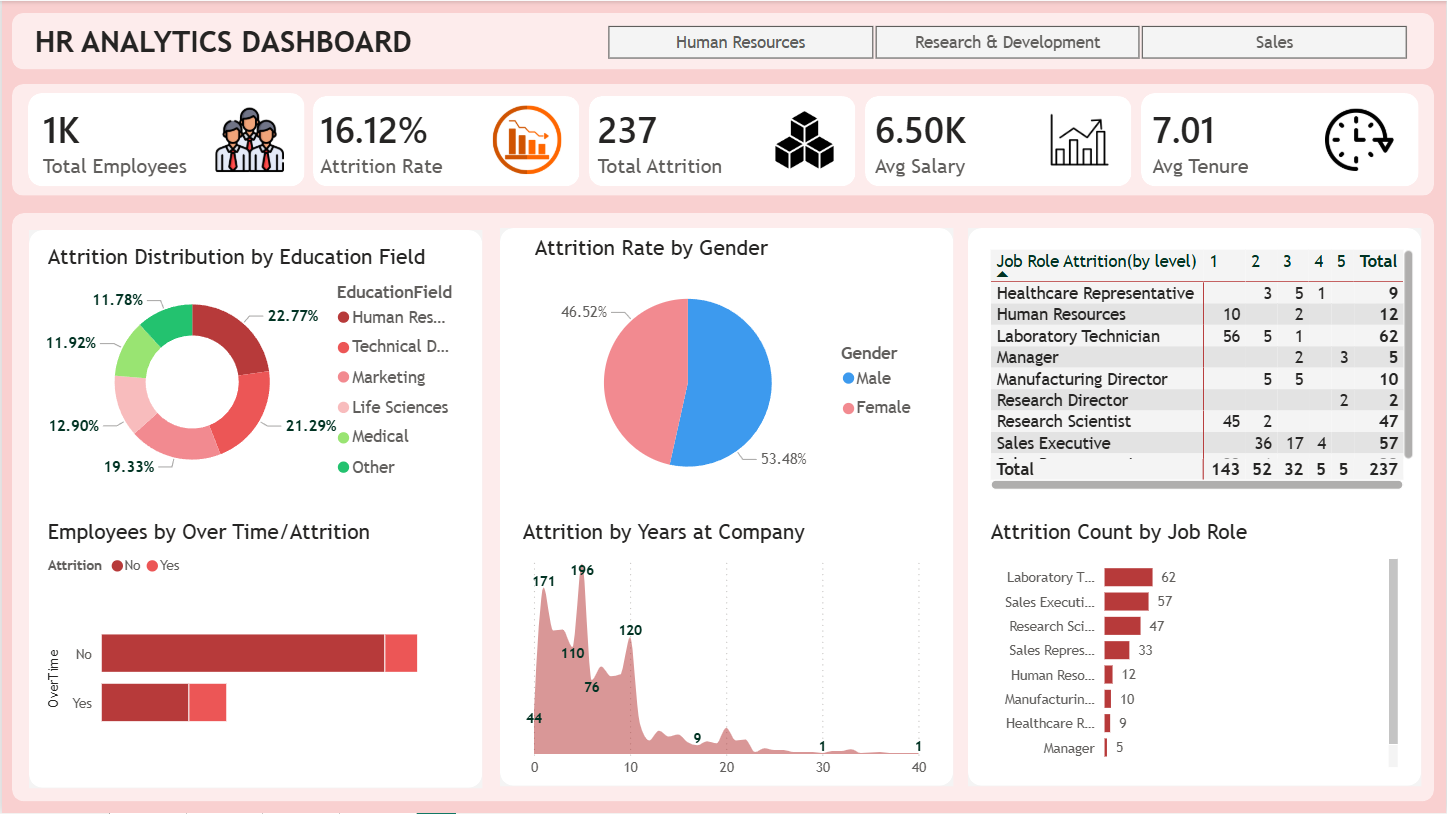

The dashboard page shown, as its layout file describes it:
{"tool":"powerbi","page":{"name":"Page 4","canvas":[1280,720],"ordinal":3},"visuals":[{"type":"group","id":"g1","title":"Group 1","box":[9.1,10.9,1260.9,699.1],"z":0},{"type":"shape","box":[9.1,73.6,1260.9,99.1],"z":0,"group":"g1"},{"type":"shape","box":[22.7,81.8,245.5,82.7],"z":0,"group":"g2"},{"type":"shape","box":[9.1,10.9,1260.9,50],"z":1000,"group":"g1"},{"type":"group","id":"g2","title":"Group 2","box":[22.7,81.8,1233.6,82.7],"z":1000},{"type":"shape","box":[519.9,84.4,236.4,80],"z":1000,"group":"g2"},{"type":"shape","box":[441,201,401.8,494.5],"z":1000,"group":"g3"},{"type":"cardVisual","fields":{"Data":["hr_data.Total Employees","hr_data.Attrition Rate %","hr_data.Total Attrition","hr_data.Avg Salary","hr_data.Avg Tenure"]},"box":[7.3,73.6,1260.9,99.1],"z":2000},{"type":"shape","box":[764.4,84.4,236.4,80],"z":2000,"group":"g2"},{"type":"shape","box":[9.1,188.2,1260.9,521.8],"z":2000,"group":"g1"},{"type":"shape","box":[23.6,202.3,401.8,494.5],"z":2000,"group":"g3"},{"type":"slicer","fields":{"Values":["hr_data.Department"]},"box":[511.8,15.5,758.2,41.8],"z":3000},{"type":"shape","box":[275.3,84.4,236.4,80],"z":3000,"group":"g2"},{"type":"shape","box":[1010,82,246.4,82.7],"z":4000,"group":"g2"},{"type":"pivotTable","fields":{"Rows":["hr_data.JobSatisfaction"],"Columns":["hr_data.EnvironmentSatisfaction"],"Values":["hr_data.Attrition Count"]},"box":[914.5,358.2,300,132.7],"z":4000},{"type":"group","id":"g3","title":"Group 3","box":[23.6,200.9,1234.5,495.5],"z":5000},{"type":"donutChart","title":"Attrition Distribution by Education Field","fields":{"Category":["hr_data.EducationField"],"Y":["hr_data.Attrition Rate %"]},"box":[35.5,215.5,376.4,222.7],"z":6000},{"type":"barChart","title":"Employees by Over Time/Attrition","fields":{"Category":["hr_data.OverTime"],"Series":["hr_data.Attrition"],"Y":["CountNonNull(hr_data.EmployeeNumber)"]},"box":[35.5,459.1,376.4,225.5],"z":7000},{"type":"clusteredBarChart","title":"Attrition Count by Job Role","fields":{"Category":["hr_data.JobRole"],"Y":["CountNonNull(hr_data.Attrition)"]},"box":[871.8,459.1,370.9,225.5],"z":8000},{"type":"lineChart","title":"Attrition by Years at Company","fields":{"Y":["CountNonNull(hr_data.Attrition)"],"Category":["hr_data.YearsAtCompany"]},"box":[456.4,459.1,370.9,236.4],"z":9000},{"type":"shape","box":[856.5,200.9,401.8,494.5],"z":9500,"group":"g3"},{"type":"pivotTable","fields":{"Rows":["hr_data.JobRole"],"Columns":["hr_data.JobLevel"],"Values":["hr_data.Attrition Count"]},"box":[871.8,215.5,384.5,222.7],"z":10000},{"type":"textbox","box":[23.6,15.5,382.7,41.8],"z":11000},{"type":"pieChart","title":"Attrition Rate by Gender","fields":{"Category":["hr_data.Gender"],"Y":["hr_data.Attrition Rate %"]},"box":[467.3,207.3,352.7,240],"z":11001}]}

Visuals, with their boxes in screenshot pixels (x1, y1, x2, y2), scaled from the page's 1280x720 canvas onto the 1447x814 screenshot:
"Group 1" group: <bbox>10, 12, 1436, 803</bbox>
shape: <bbox>10, 83, 1436, 195</bbox>
shape: <bbox>26, 92, 303, 186</bbox>
shape: <bbox>10, 12, 1436, 69</bbox>
"Group 2" group: <bbox>26, 92, 1420, 186</bbox>
shape: <bbox>588, 95, 855, 186</bbox>
shape: <bbox>499, 227, 953, 786</bbox>
cardVisual - hr_data.Total Employees x hr_data.Attrition Rate %: <bbox>8, 83, 1434, 195</bbox>
shape: <bbox>864, 95, 1131, 186</bbox>
shape: <bbox>10, 213, 1436, 803</bbox>
shape: <bbox>27, 229, 481, 788</bbox>
slicer - hr_data.Department: <bbox>579, 18, 1436, 65</bbox>
shape: <bbox>311, 95, 578, 186</bbox>
shape: <bbox>1142, 93, 1420, 186</bbox>
pivotTable - hr_data.JobSatisfaction x hr_data.EnvironmentSatisfaction: <bbox>1034, 405, 1373, 555</bbox>
"Group 3" group: <bbox>27, 227, 1422, 787</bbox>
"Attrition Distribution by Education Field" donutChart: <bbox>40, 244, 466, 495</bbox>
"Employees by Over Time/Attrition" barChart: <bbox>40, 519, 466, 774</bbox>
"Attrition Count by Job Role" clusteredBarChart: <bbox>986, 519, 1405, 774</bbox>
"Attrition by Years at Company" lineChart: <bbox>516, 519, 935, 786</bbox>
shape: <bbox>968, 227, 1422, 786</bbox>
pivotTable - hr_data.JobRole x hr_data.JobLevel: <bbox>986, 244, 1420, 495</bbox>
textbox: <bbox>27, 18, 459, 65</bbox>
"Attrition Rate by Gender" pieChart: <bbox>528, 234, 927, 506</bbox>
